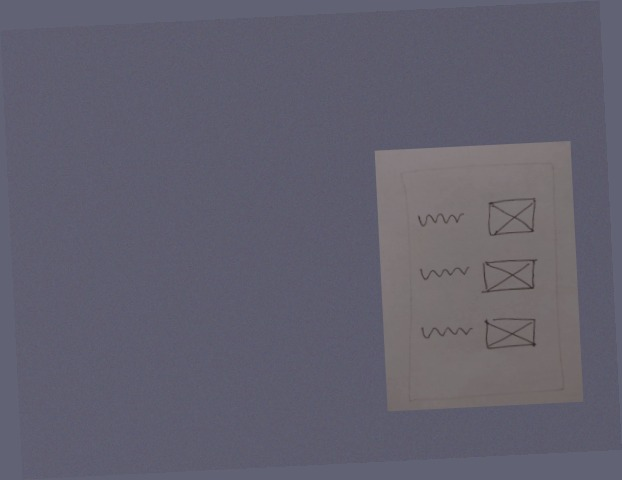image: (480, 311, 542, 360), (482, 193, 542, 241), (477, 255, 542, 297)
text: (417, 318, 475, 348), (413, 206, 467, 230), (418, 261, 473, 284)
